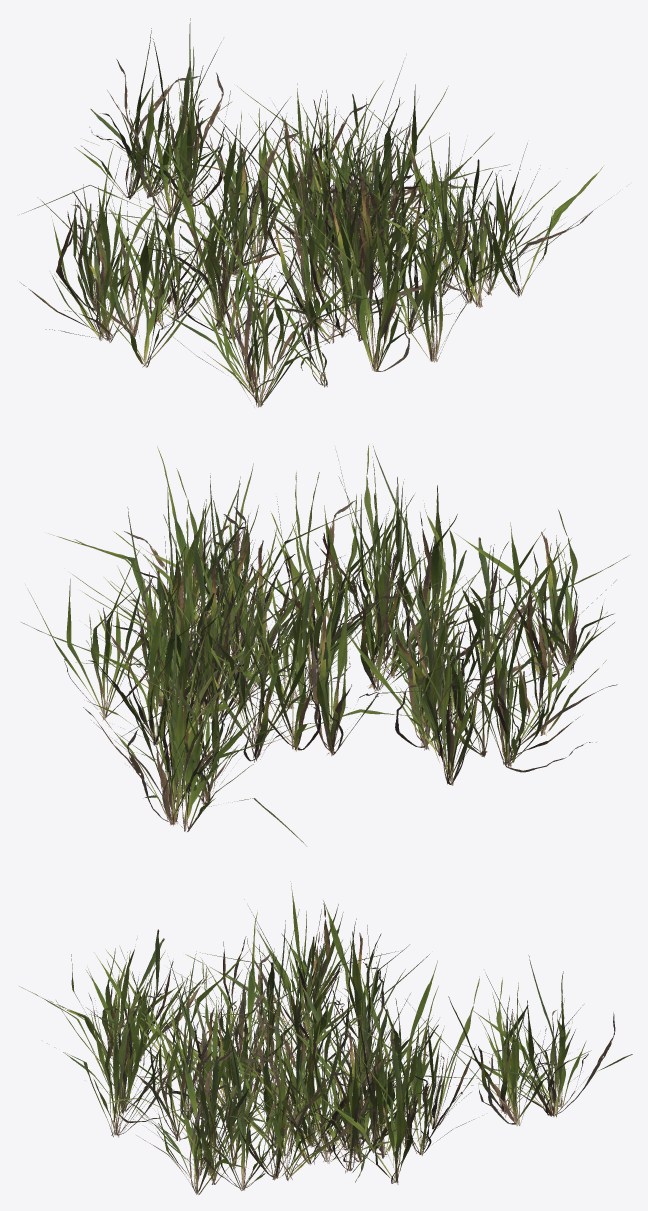
File: Grass_04_Var1_LOD1.fbx
The picture shows the model from 3 angles, top to bottom: view 1: azimuth 30°, elevation 25°; view 2: azimuth 150°, elevation 25°; view 3: azimuth 270°, elevation 25°; orthographic projection. The views are drawn at different scales.
Visible parts, largest first — view 1: Var1_LOD1; view 2: Var1_LOD1; view 3: Var1_LOD1.
Part boxes in pixels (x1,y1,x2,y2): Var1_LOD1: (19, 18, 611, 407); Var1_LOD1: (21, 444, 629, 846); Var1_LOD1: (19, 881, 632, 1194).
Bounding box in the file's own units: 77.18 × 25.89 × 81.95.
